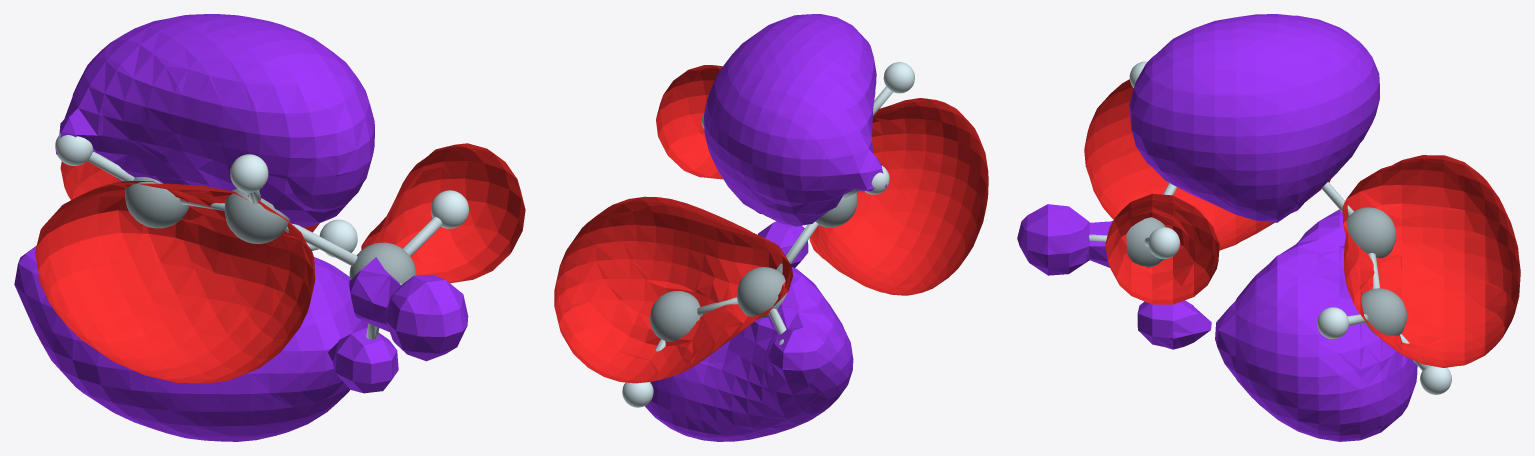
The picture shows the model from 3 angles, left to right: view 1: azimuth 30°, elevation 25°; view 2: azimuth 150°, elevation 25°; view 3: azimuth 270°, elevation 25°; orthographic projection. The views are drawn at different scales.
Visible parts, largest first — view 1: Renderer Node; view 2: Renderer Node; view 3: Renderer Node.
Part boxes in pixels (left/top/right/bottom): Renderer Node: left=14, top=14, right=525, bottom=441; Renderer Node: left=554, top=14, right=988, bottom=441; Renderer Node: left=1017, top=14, right=1520, bottom=441.
Size of the model in its own units: 4.97 by 5.26 by 6.3.
